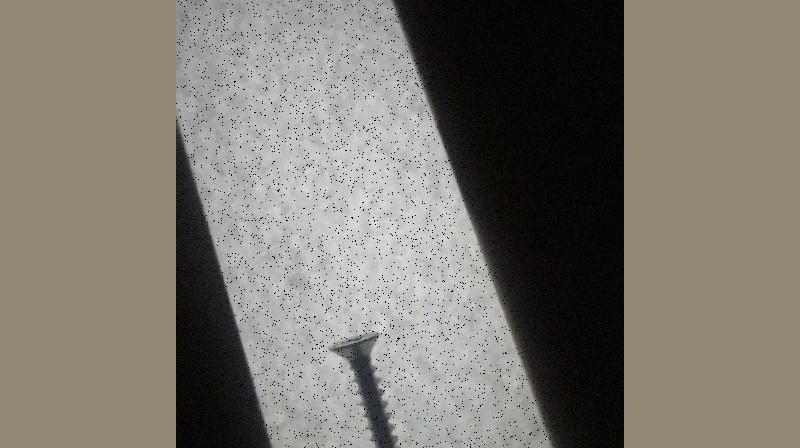S001: (322, 327, 409, 447)
